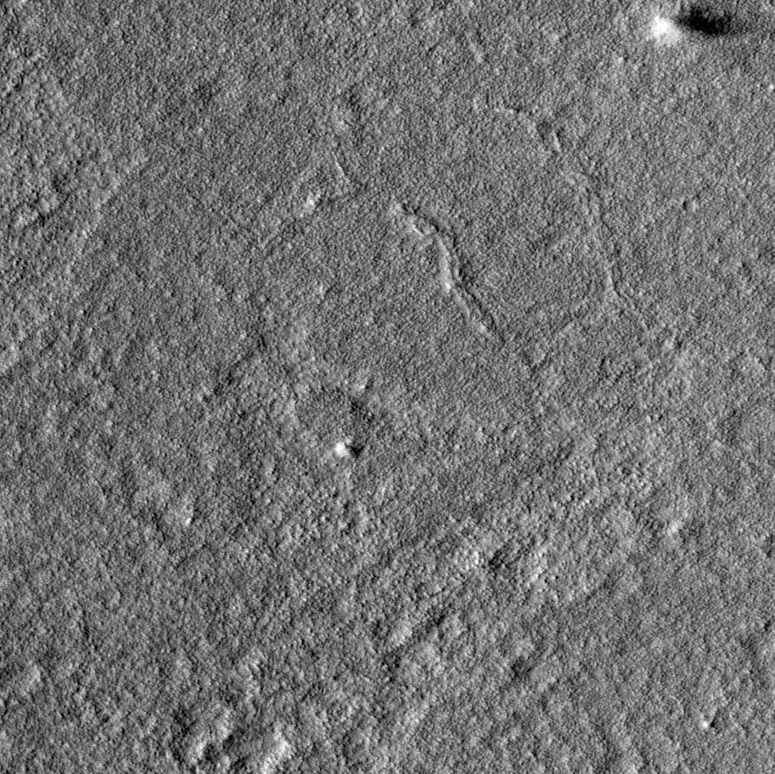dust_devil: (644, 7, 752, 51)
